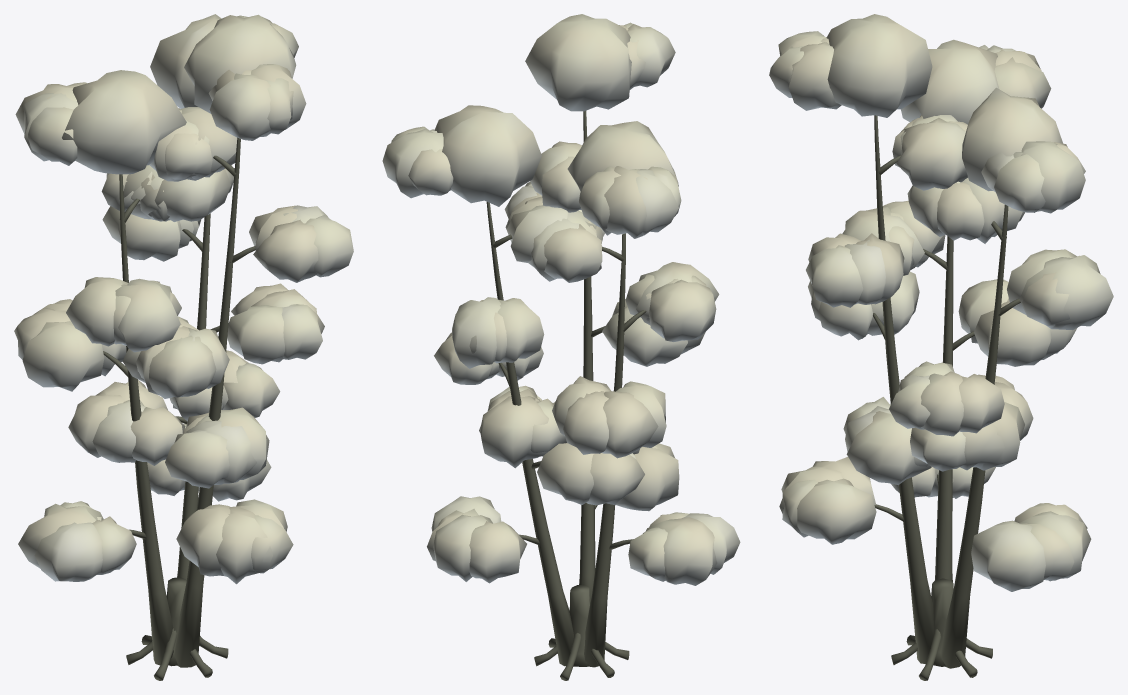
3 renders of one model, left to right at view 1: azimuth 30°, elevation 25°; view 2: azimuth 150°, elevation 25°; view 3: azimuth 270°, elevation 25°, orthographic. The views are drawn at different scales.
Visible parts, largest first — view 1: crown, trunk; view 2: crown, trunk; view 3: crown, trunk.
Part boxes in pixels (bbox=[...]): crown: bbox=[14, 14, 353, 584]; trunk: bbox=[103, 137, 255, 680]; crown: bbox=[382, 14, 740, 585]; trunk: bbox=[486, 111, 646, 680]; crown: bbox=[769, 14, 1113, 591]; trunk: bbox=[873, 115, 1020, 680].
Bounding box in the file's own units: 6.65 × 13.32 × 6.36.
